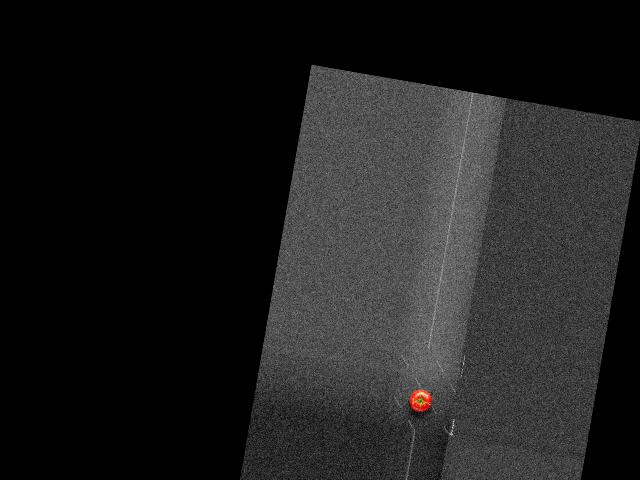tomato: (408, 387, 433, 413)
